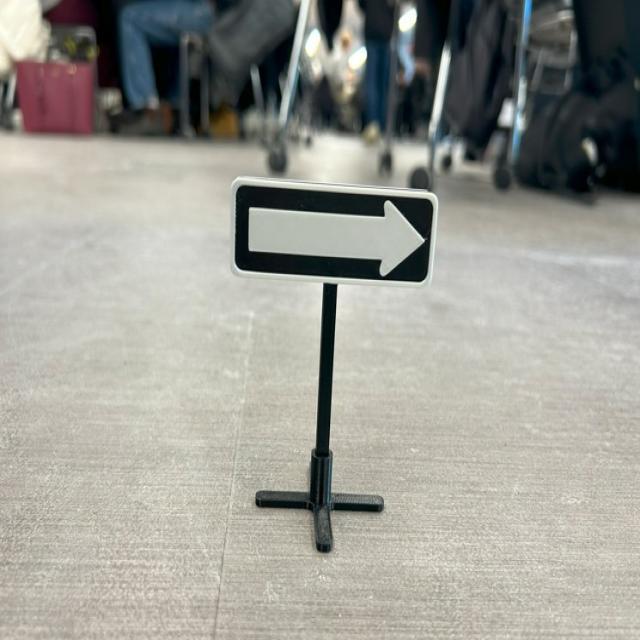sign_oneway_right: (228, 166, 444, 305)
